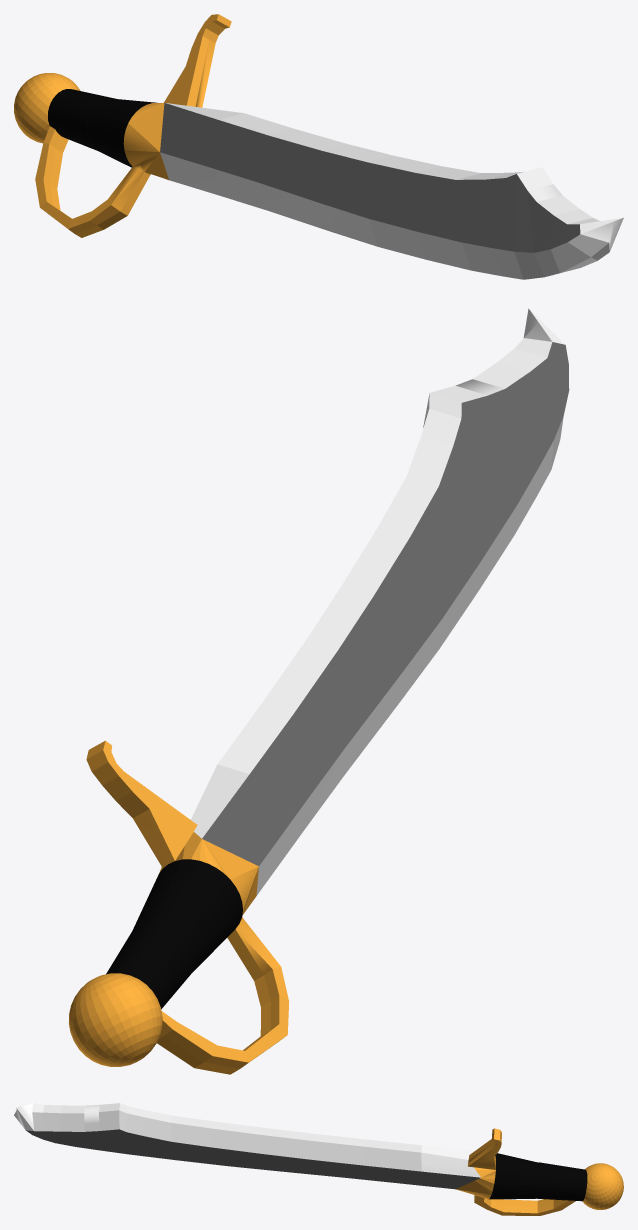
File: Sword.fbx
The picture shows the model from 3 angles, top to bottom: view 1: azimuth 30°, elevation 25°; view 2: azimuth 150°, elevation 25°; view 3: azimuth 270°, elevation 25°; orthographic projection. The views are drawn at different scales.
Visible parts, largest first — view 1: Sword; view 2: Sword; view 3: Sword.
Boxes of the visible parts, x1,y1,x2,y2 form: Sword: (14,14,623,279); Sword: (69,308,569,1074); Sword: (14,1103,623,1215).
Bounding box in the file's own units: 47.81 × 60.55 × 204.
